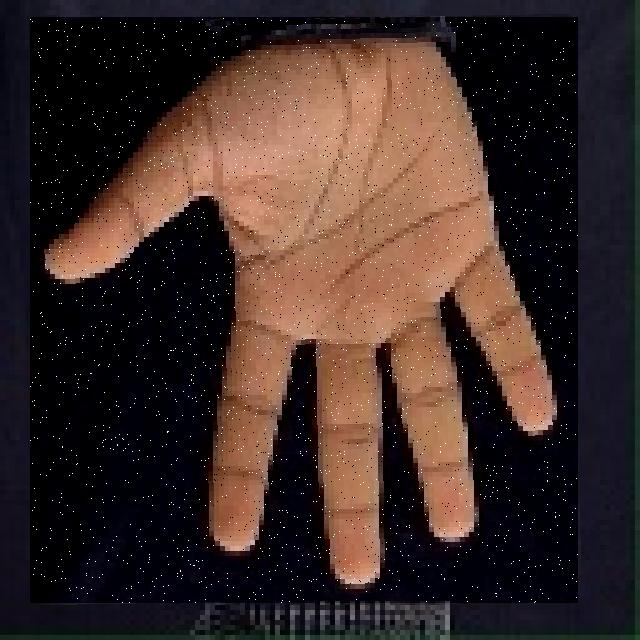Yes: (31, 17, 578, 603)
